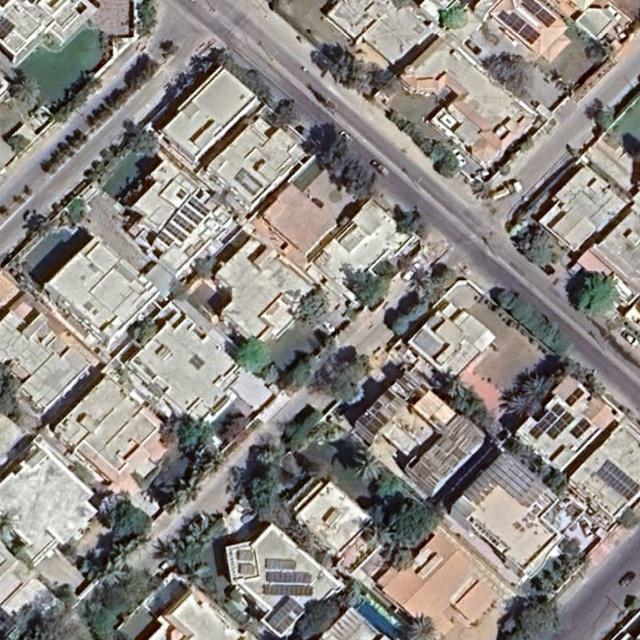solar panel: (596, 459, 639, 502), (497, 9, 542, 46), (266, 595, 303, 634), (522, 0, 557, 28), (359, 407, 388, 438), (527, 412, 557, 439), (546, 412, 574, 440), (261, 584, 314, 596), (187, 196, 211, 217), (268, 571, 312, 582), (173, 214, 196, 235), (180, 205, 204, 225), (164, 223, 187, 243), (571, 418, 592, 439), (566, 388, 585, 408), (266, 558, 296, 568), (157, 231, 175, 247), (240, 564, 257, 576), (238, 550, 253, 561), (553, 404, 565, 416)
